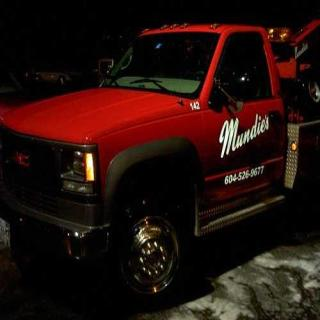Towing_truck: (0, 15, 319, 300)
